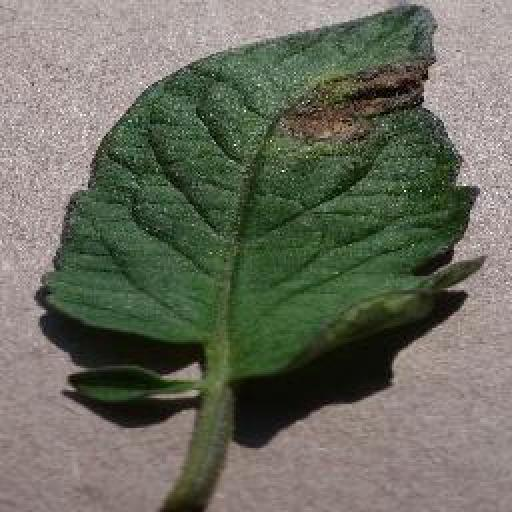disease_tomato: (40, 5, 488, 379)
